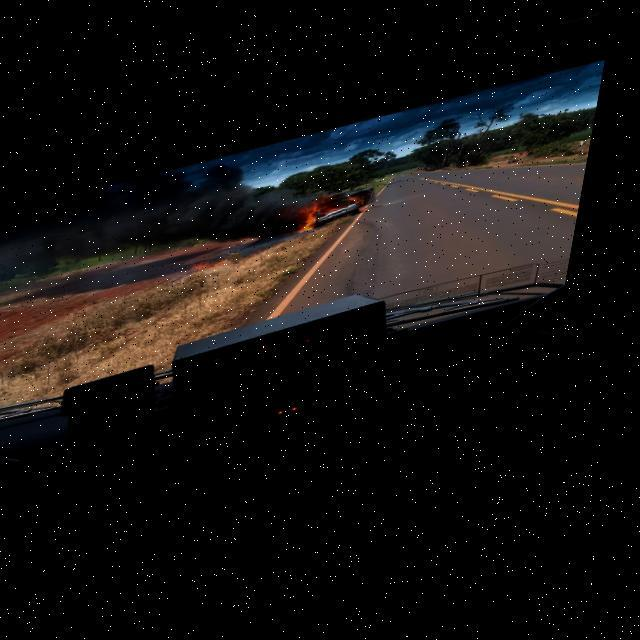Fire: (300, 217, 332, 249), (199, 271, 227, 283), (358, 212, 381, 225)
